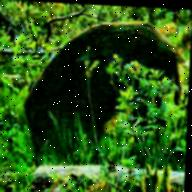boar: (15, 10, 190, 178)
